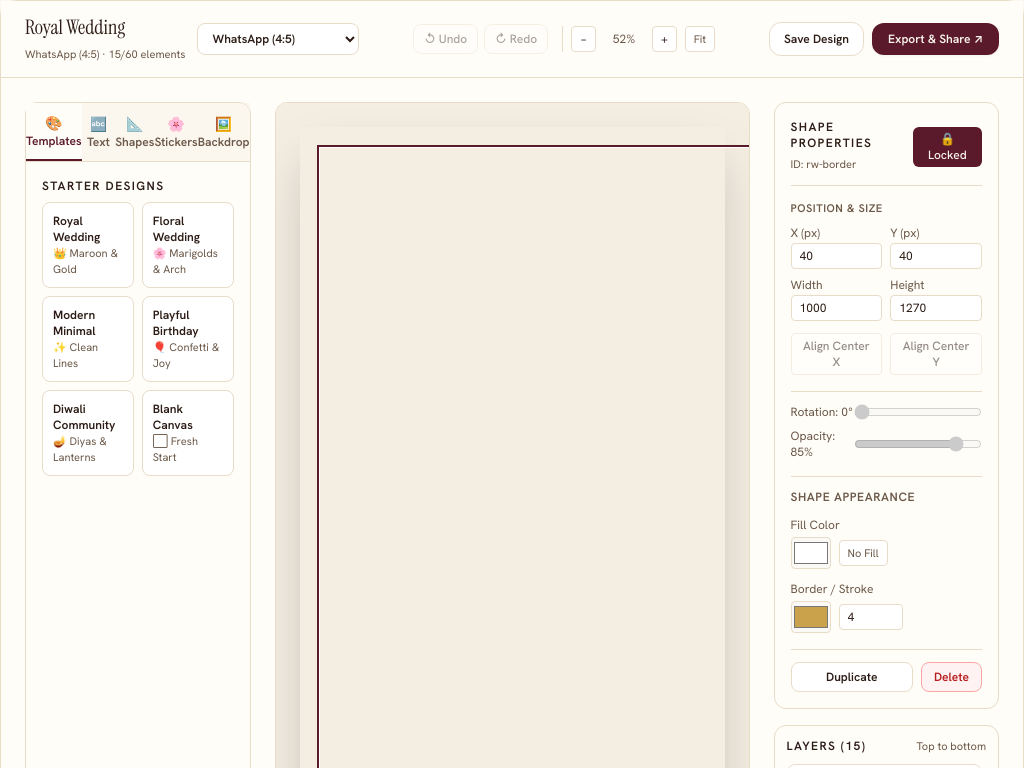
it: Stage 2 & 3: Card Studio Component & Export › executes batch export for 3 guests with personal QR codes and print options
Note: Open export modal
Click the button "Export & Share ↗".
click(936, 39)  # box top-left (872, 23), bottom-right (999, 55)
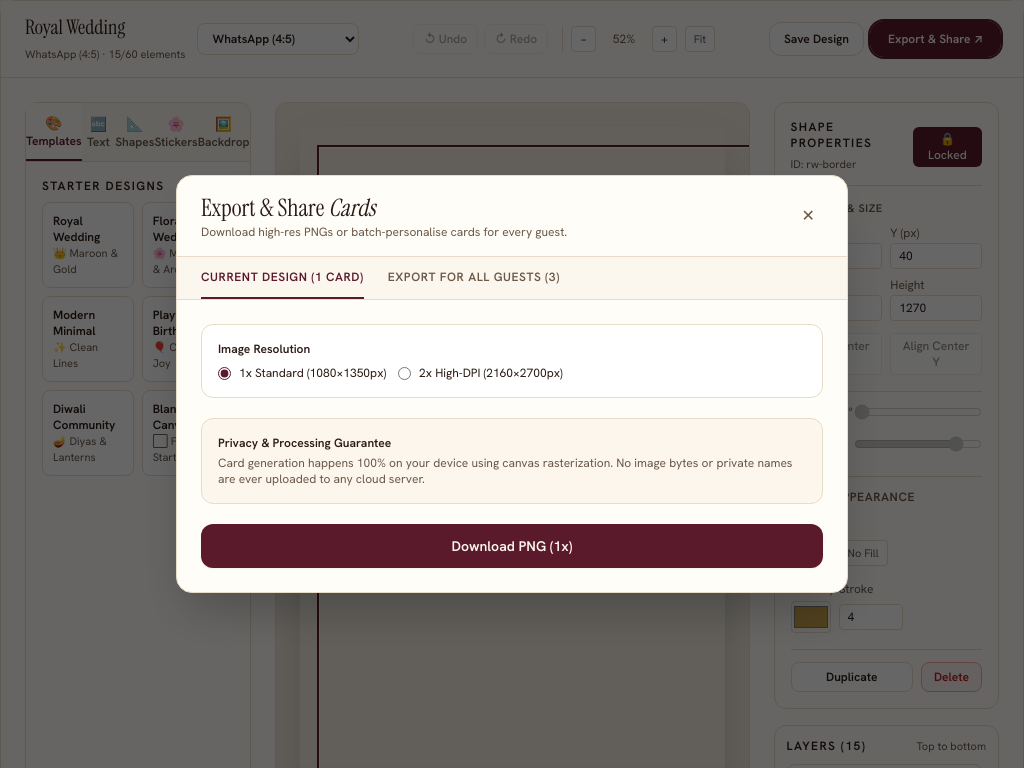
Expected: the dialog "Export & Share Cards" is shown
Click the button "Export for All Guests (3)".
click(474, 278)  # box top-left (388, 257), bottom-right (560, 299)
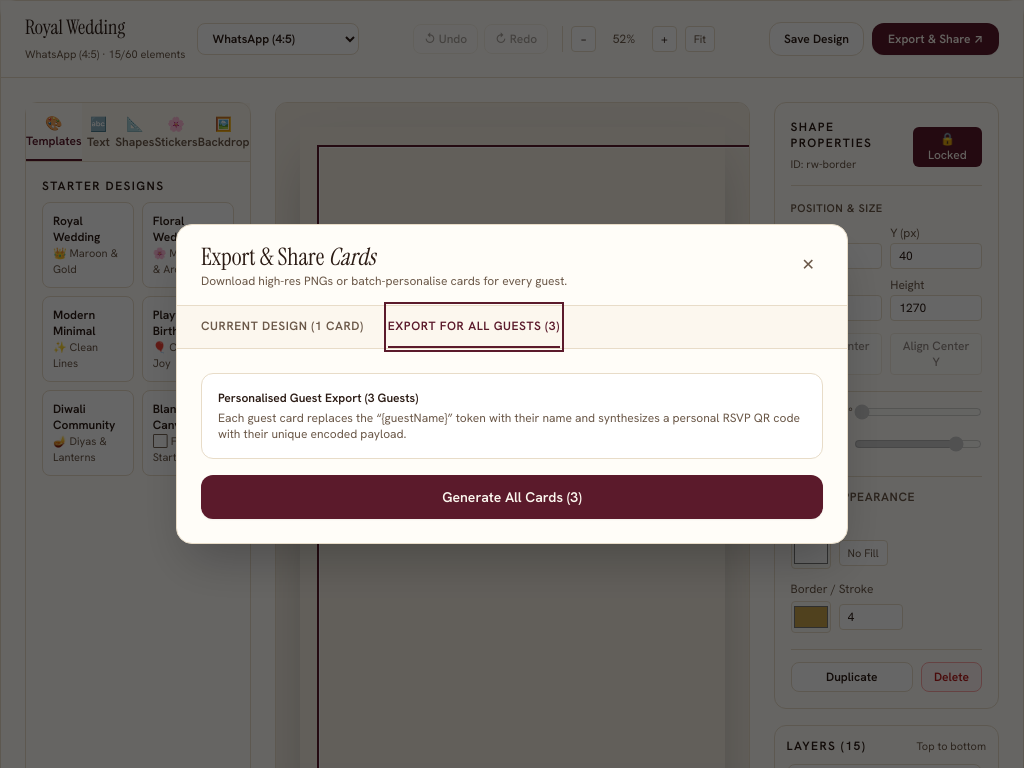
Click the button "Generate All Cards (3)".
click(512, 497)  # box top-left (201, 475), bottom-right (823, 519)
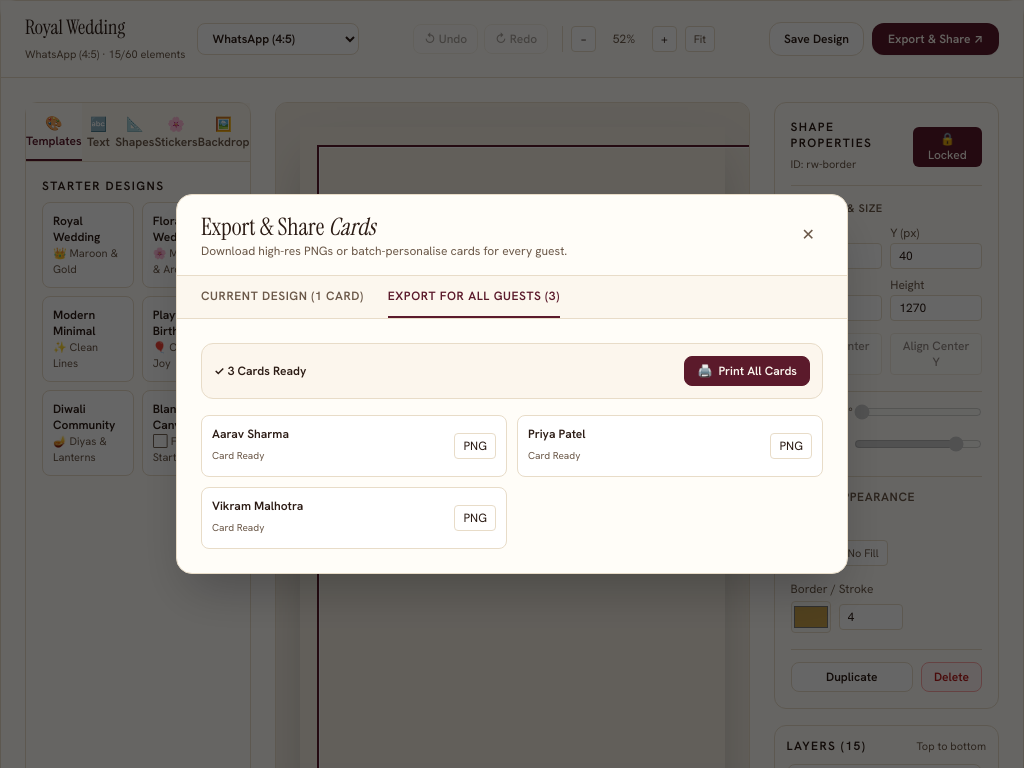
Expected: the text "✓ 3 Cards Ready" is shown, top-left (214, 363), bottom-right (306, 379)
Expected: the button "🖨️ Print All Cards" is shown, top-left (684, 356), bottom-right (810, 386)
